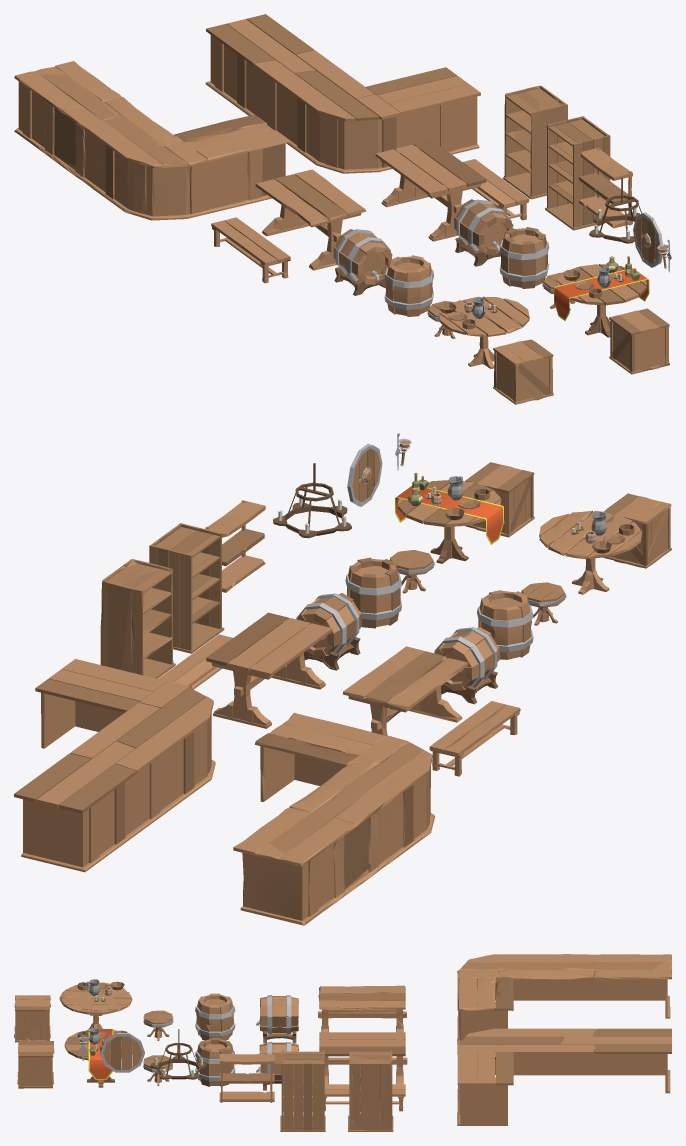
File: tavern.glb
3 views of the same model, one above another, from view 1: azimuth 30°, elevation 25°; view 2: azimuth 150°, elevation 25°; view 3: azimuth 270°, elevation 25° (orthographic). The views are drawn at different scales.
Parts seen in each view (by area): view 1: barCounterShavvy, barCounter, table2, cupboarShabby, cupboard, table2Shabby, box, boxShabby, barrelCraneShabby, table1Shabby, barrelCrane, barrel (+8 smaller); view 2: barCounter, barCounterShavvy, cupboarShabby, table2, cupboard, table2Shabby, table1Shabby, barrel, barrelCraneShabby, barrelCrane, barrelShabby, boxShabby (+10 smaller); view 3: barCounter, barCounterShavvy, cupboard, cupboarShabby, table2Shabby, table2, shelf, box, barrelCraneShabby, boxShabby, table1Shabby, barrelShabby (+9 smaller).
Part boxes in pixels (x1,y1,x2,y2): barCounterShavvy: (14, 61, 288, 220); barCounter: (205, 14, 480, 173); table2: (375, 140, 486, 241); cupboarShabby: (502, 85, 567, 199); cupboard: (545, 116, 610, 230); table2Shabby: (255, 169, 366, 270); box: (609, 308, 669, 374); boxShabby: (493, 339, 553, 404); barrelCraneShabby: (333, 229, 392, 295); table1Shabby: (439, 296, 529, 368); barrelCrane: (454, 199, 513, 266); barrel: (499, 227, 549, 288); barCounter: (14, 659, 215, 872); barCounterShavvy: (233, 712, 434, 925); cupboarShabby: (100, 559, 175, 678); table2: (206, 612, 332, 728); cupboard: (149, 523, 224, 653); table2Shabby: (342, 646, 468, 735); table1Shabby: (539, 510, 642, 594); barrel: (345, 557, 401, 628); barrelCraneShabby: (434, 627, 499, 704); barrelCrane: (296, 593, 361, 670); barrelShabby: (477, 590, 533, 659); boxShabby: (603, 493, 671, 568); barCounter: (457, 1028, 671, 1125); barCounterShavvy: (457, 954, 671, 1044); cupboard: (280, 1050, 325, 1131); cupboarShabby: (348, 1050, 393, 1131); table2Shabby: (318, 985, 406, 1032); table2: (319, 1032, 407, 1084); shelf: (219, 1054, 274, 1102); box: (17, 1041, 54, 1088); barrelCraneShabby: (256, 995, 298, 1043); boxShabby: (14, 995, 50, 1042); table1Shabby: (59, 982, 132, 1030); barrelShabby: (195, 993, 235, 1040).
Bounding box in the file's own units: 8.87 × 2.54 × 17.97.
Materials: 2 (2 with a texture image).
